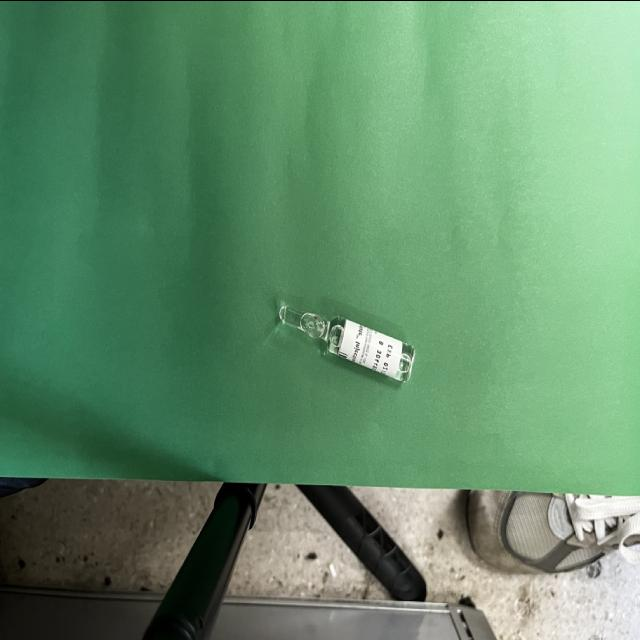Ampoules: (278, 305, 416, 382)
